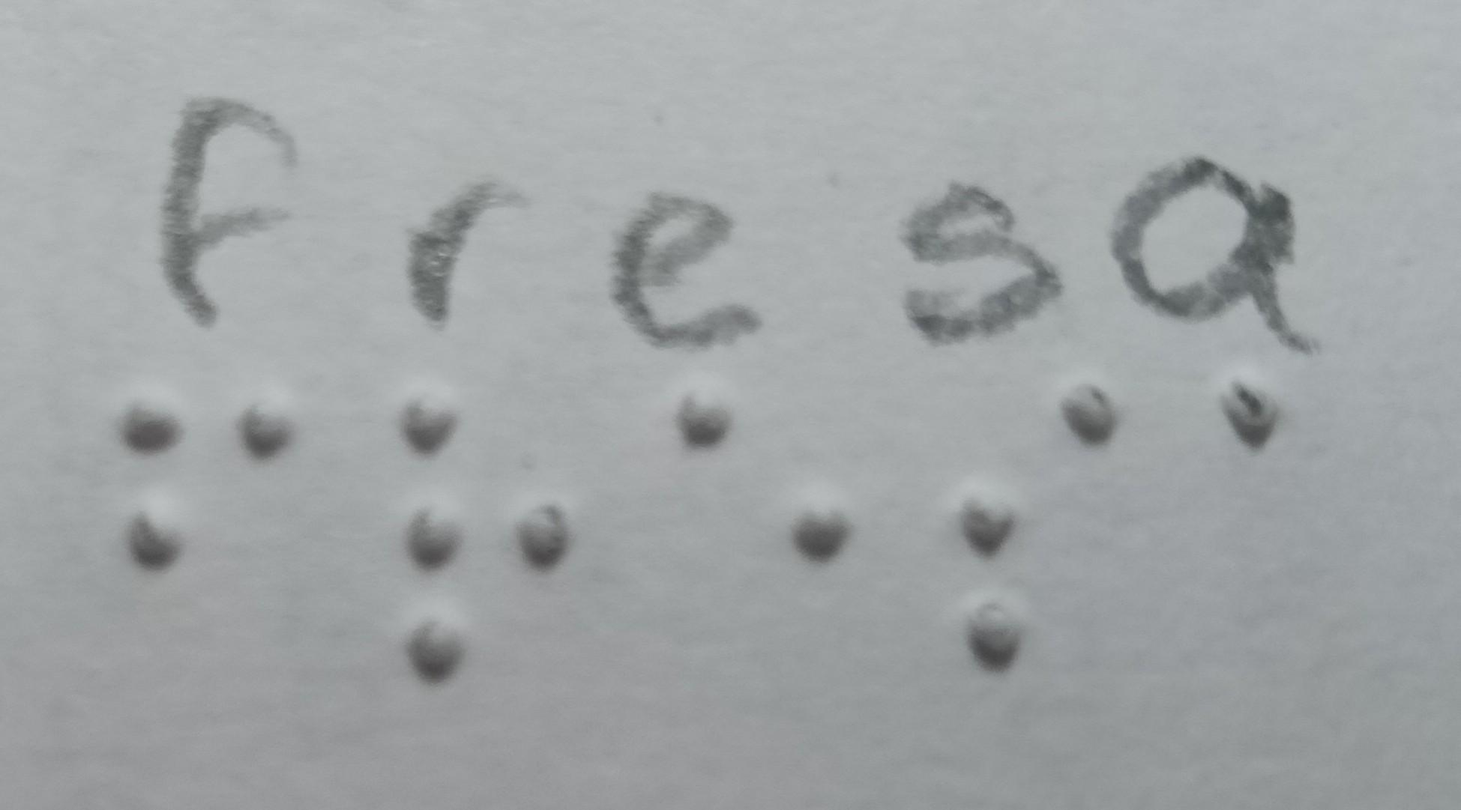a: (1149, 375, 1336, 453)
e: (609, 360, 860, 581)
f: (105, 347, 322, 618)
r: (384, 360, 579, 693)
s: (909, 378, 1153, 680)
